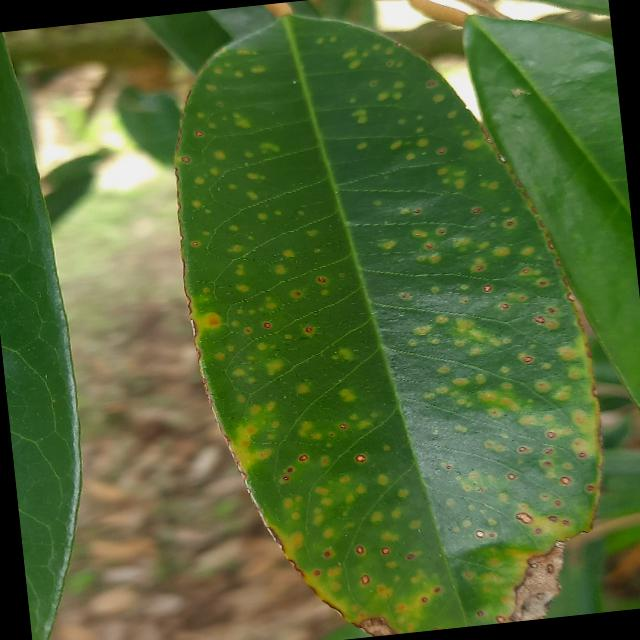Leaf Spot: (149, 0, 632, 639)
